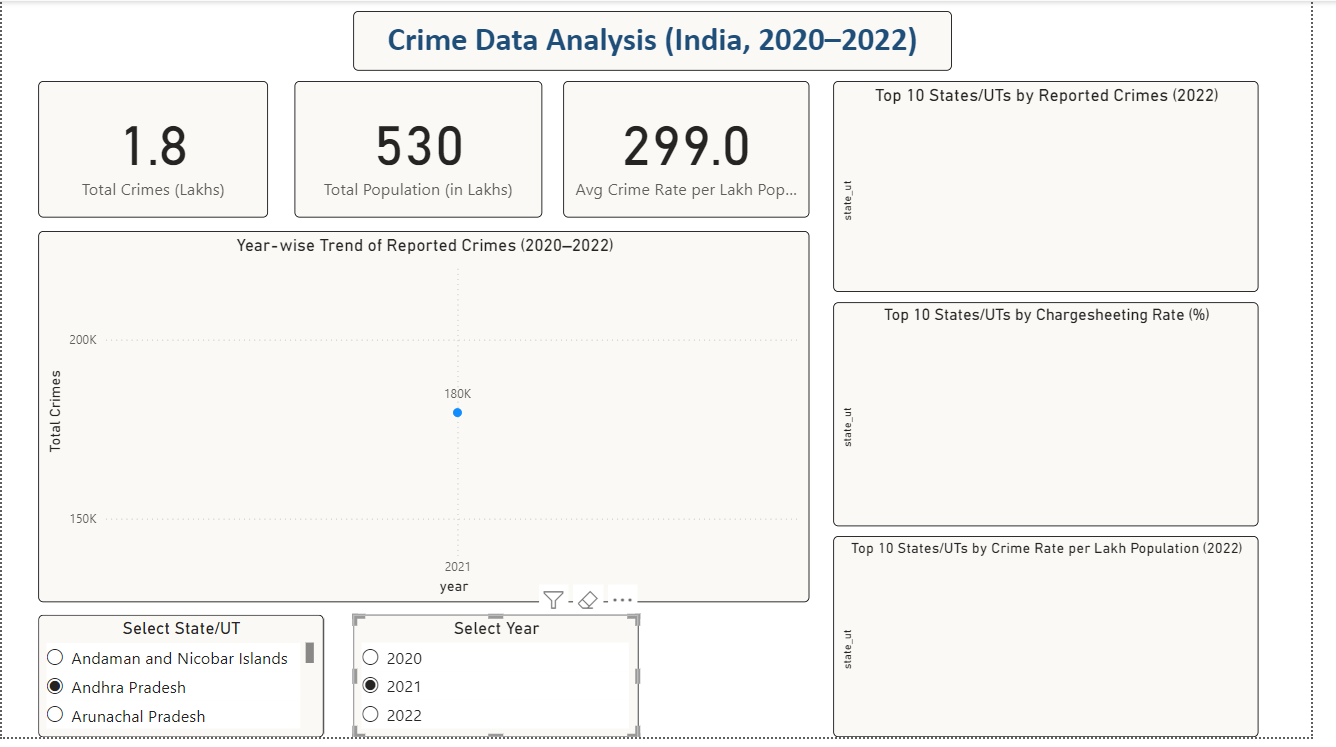

This screenshot's page, from the dashboard's own definition file:
{"tool":"powerbi","page":{"name":"Page 1","canvas":[1280,720],"ordinal":0},"visuals":[{"type":"card","title":"Total Crimes","fields":{"Values":["crime_data_analysis ipc_crimes.Total Crimes (Lakhs)"]},"box":[35.5,78.3,225,133.3],"z":0,"group":"g2"},{"type":"barChart","title":"Top 10 States/UTs by Reported Crimes (2022)","fields":{"Category":["crime_data_analysis ipc_crimes.state_ut"],"Y":["Sum(crime_data_analysis ipc_crimes.crimes)"]},"box":[813.2,78.3,415.8,206.7],"z":0,"group":"g1"},{"type":"lineChart","title":"Year-wise Trend of Reported Crimes (2020–2022)","fields":{"Category":["crime_data_analysis ipc_crimes.year"],"Y":["Sum(crime_data_analysis ipc_crimes.crimes)"]},"box":[35.5,225,754.5,363.2],"z":0},{"type":"card","title":"Total Crimes","fields":{"Values":["Sum(crime_data_analysis ipc_crimes.population_lakh)"]},"box":[286.2,78.3,242.1,133.3],"z":1000,"group":"g2"},{"type":"barChart","title":"Top 10 States/UTs by Chargesheeting Rate (%)","fields":{"Category":["crime_data_analysis ipc_crimes.state_ut"],"Y":["Sum(crime_data_analysis ipc_crimes.chargesheet_rate)"]},"box":[813.2,294.7,415.8,218.9],"z":1000,"group":"g1"},{"type":"listSlicer","title":"Select State/UT","fields":{"Values":["crime_data_analysis ipc_crimes.state_ut"]},"box":[35.5,600.4,278.8,119.8],"z":1000},{"type":"textbox","box":[343.6,9.8,585.7,58.7],"z":2000},{"type":"card","title":"Total Crimes","fields":{"Values":["Avg(crime_data_analysis ipc_crimes.rate_ipc)"]},"box":[549.1,78.3,240.9,133.3],"z":2000,"group":"g2"},{"type":"barChart","title":"Top 10 States/UTs by Crime Rate per Lakh Population (2022)","fields":{"Category":["crime_data_analysis ipc_crimes.state_ut"],"Y":["Sum(crime_data_analysis ipc_crimes.rate_ipc)"]},"box":[813.2,523.4,415.8,196.9],"z":2000,"group":"g1"},{"type":"listSlicer","title":"Select Year","fields":{"Values":["crime_data_analysis ipc_crimes.year"]},"box":[343.6,600.4,278.8,119.8],"z":3000},{"type":"group","id":"g1","title":"Group 1","box":[813.2,78.3,415.8,642],"z":4000},{"type":"group","id":"g2","title":"Group 2","box":[35.5,78.3,754.5,133.3],"z":5000}]}

Visuals, with their boxes in screenshot pixels (x1, y1, x2, y2), scaled from the page's 1280x720 canvas onto the 1336x747 screenshot:
"Total Crimes" card: detection(37, 81, 272, 220)
"Top 10 States/UTs by Reported Crimes (2022)" barChart: detection(849, 81, 1283, 296)
"Year-wise Trend of Reported Crimes (2020–2022)" lineChart: detection(37, 233, 825, 610)
"Total Crimes" card: detection(299, 81, 551, 220)
"Top 10 States/UTs by Chargesheeting Rate (%)" barChart: detection(849, 306, 1283, 533)
"Select State/UT" listSlicer: detection(37, 623, 328, 746)
textbox: detection(359, 10, 970, 71)
"Total Crimes" card: detection(573, 81, 825, 220)
"Top 10 States/UTs by Crime Rate per Lakh Population (2022)" barChart: detection(849, 543, 1283, 746)
"Select Year" listSlicer: detection(359, 623, 650, 746)
"Group 1" group: detection(849, 81, 1283, 746)
"Group 2" group: detection(37, 81, 825, 220)
